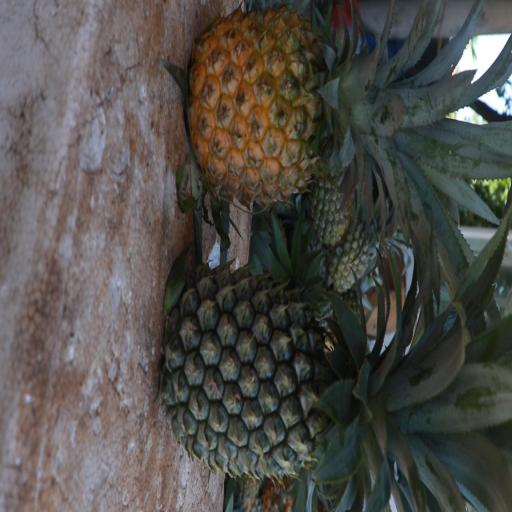Pineapple - v8 v1: (192, 16, 465, 199)
